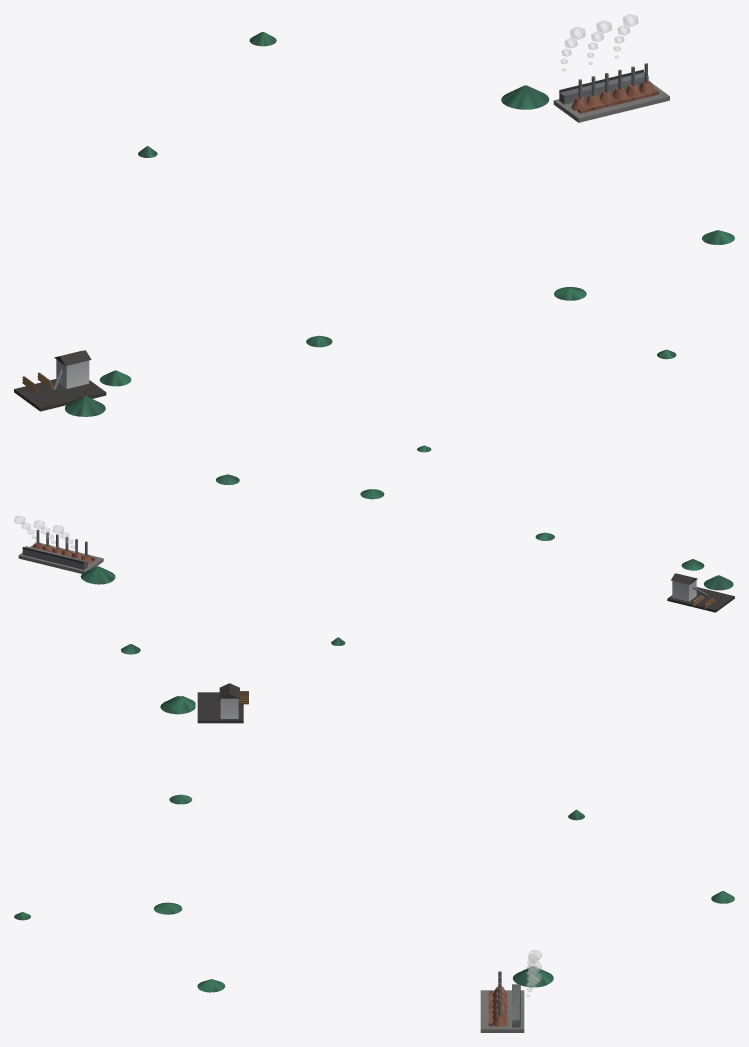
File: Theme_P3.fbx
3 views of the same model, one above another, from view 1: azimuth 30°, elevation 25°; view 2: azimuth 150°, elevation 25°; view 3: azimuth 270°, elevation 25° (orthographic). The views are drawn at different scales.
Visible parts, largest first — view 1: Theme.CokeOvens, Theme.Screens, Theme.CokeStock; view 2: Theme.CokeOvens, Theme.Screens, Theme.CokeStock; view 3: Theme.CokeOvens, Theme.Screens, Theme.CokeStock.
Part boxes in pixels (x1,y1,x2,y2): Theme.CokeOvens: (553,63,669,122); Theme.Screens: (14,350,106,411); Theme.CokeStock: (501,85,549,109); Theme.CokeOvens: (18,529,103,573); Theme.Screens: (667,573,734,612); Theme.CokeStock: (80,566,115,584); Theme.CokeOvens: (480,971,524,1032); Theme.Screens: (197,683,248,723); Theme.CokeStock: (512,966,553,987).
Size of the model in its own units: 31195 by 2470 by 28247.
